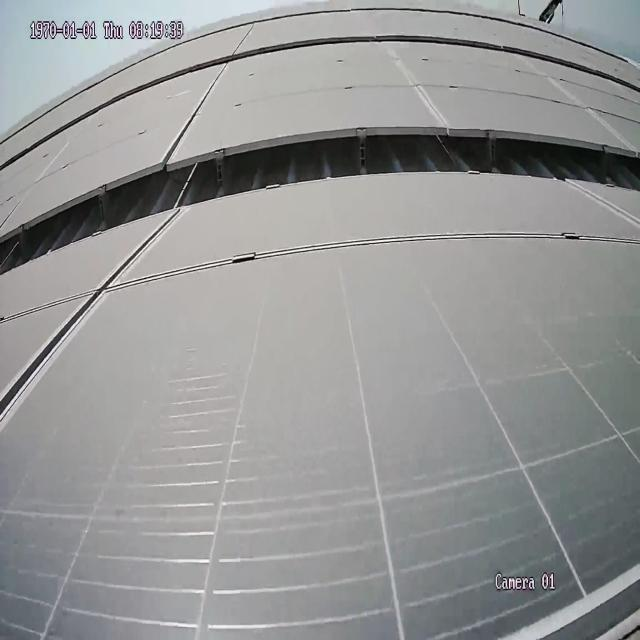interior panel: (1, 221, 637, 432), (523, 62, 633, 144), (167, 71, 227, 156), (383, 50, 445, 118)
outher panel: (0, 120, 634, 268)
